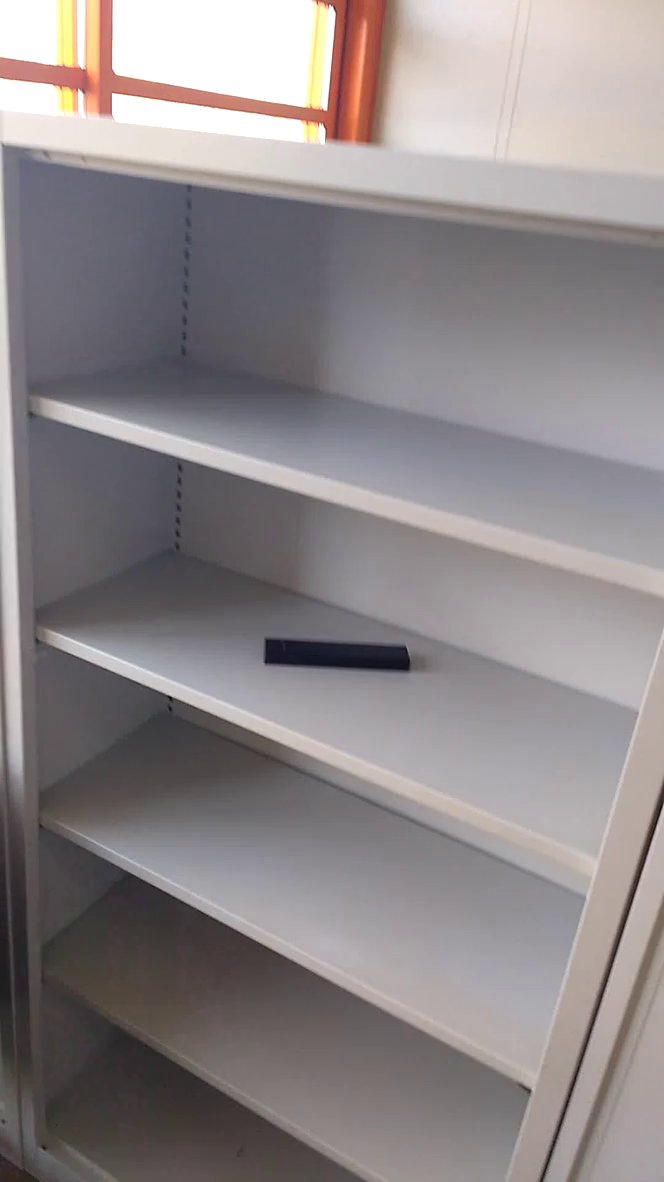remote: (241, 626, 426, 686)
